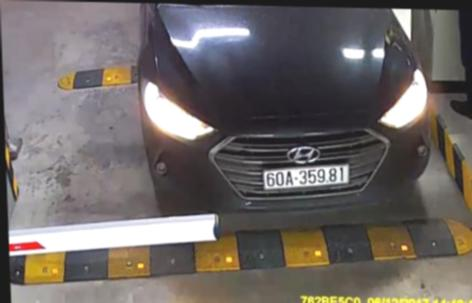License_Plate: (260, 165, 354, 192)
